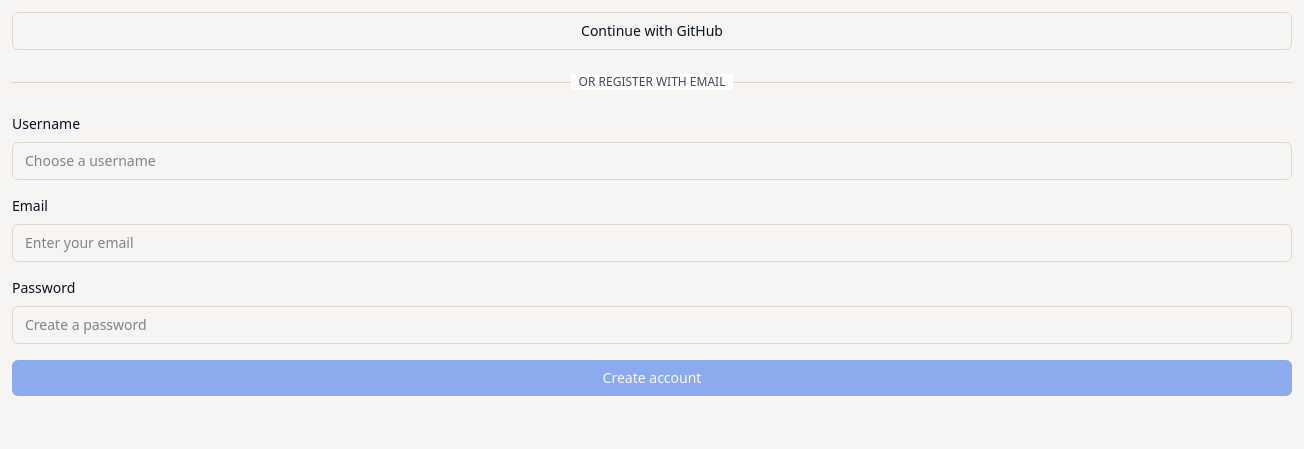
it: RegisterForm › shows role=alert on registration error
The width and height of the screenshot is (1304, 449).
Step 1. Type "existing" into the field labelled "Username" → (652, 161), box x1=12 y1=142 x2=1292 y2=180
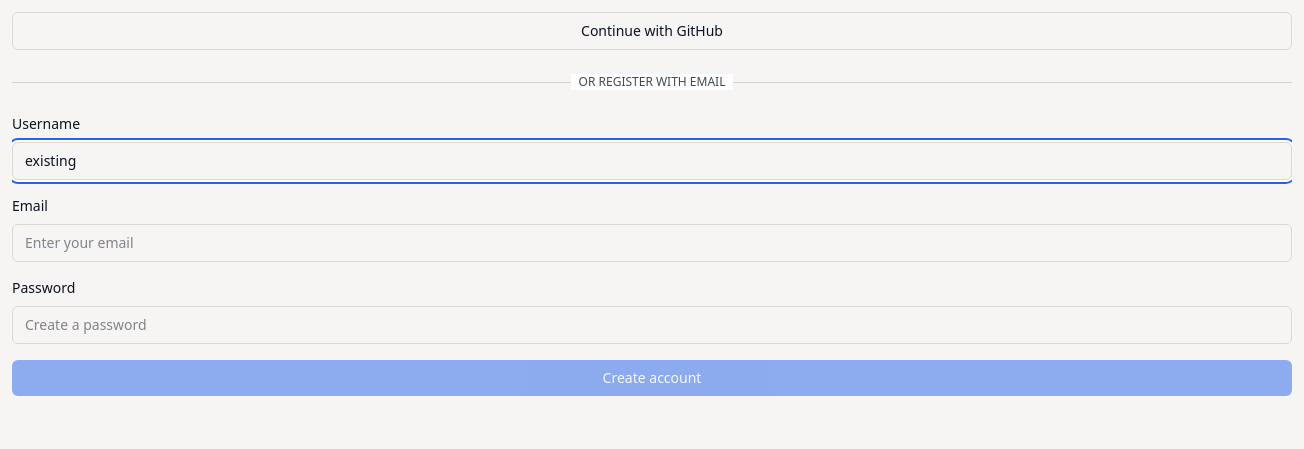
Step 2. Type "e@e.com" into the field labelled "Email" → (652, 243), box x1=12 y1=224 x2=1292 y2=262
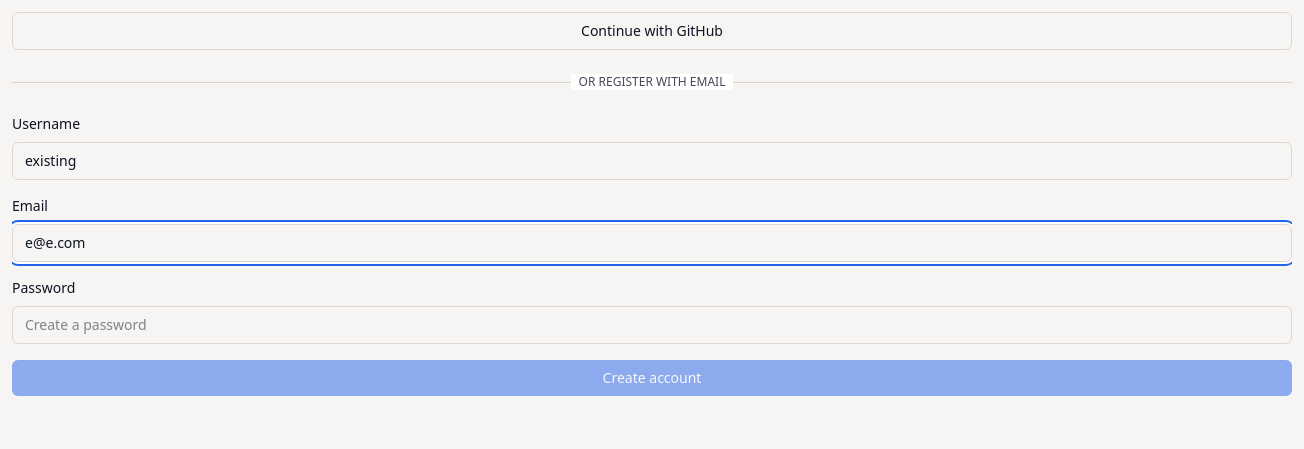
Step 3. Type "pass123" into the password field labelled "Password" → (652, 325), box x1=12 y1=306 x2=1292 y2=344
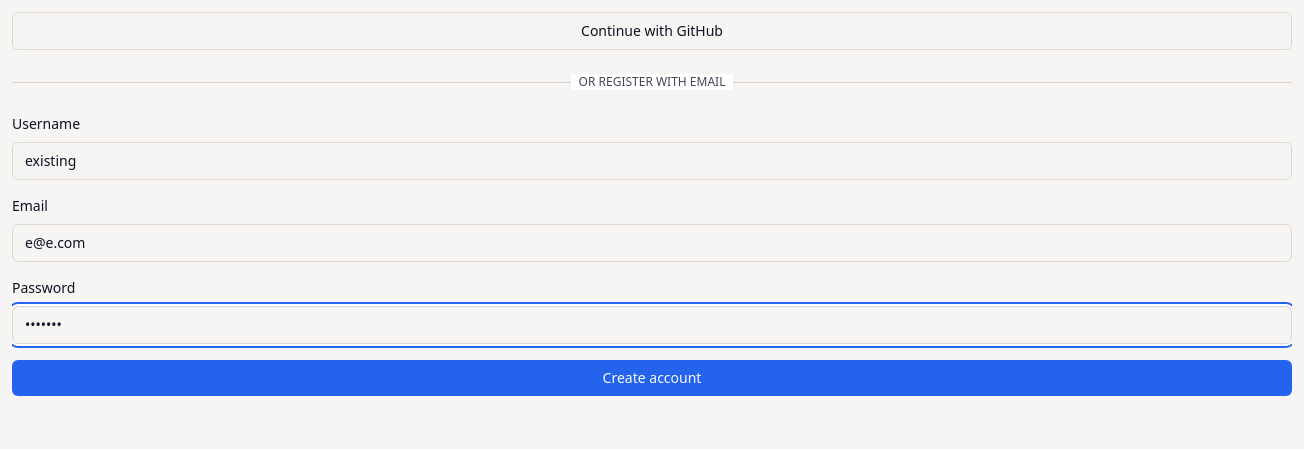
Step 4. Click the button "Create account" → (652, 378), box x1=12 y1=360 x2=1292 y2=396
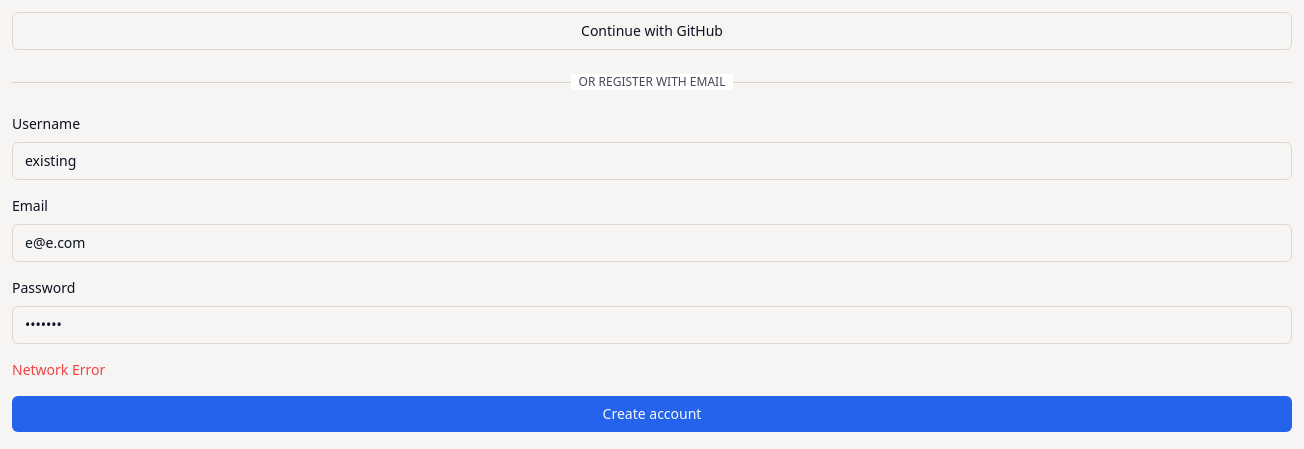
Expected: the message "Network Error" is shown, x1=12 y1=360 x2=105 y2=379
